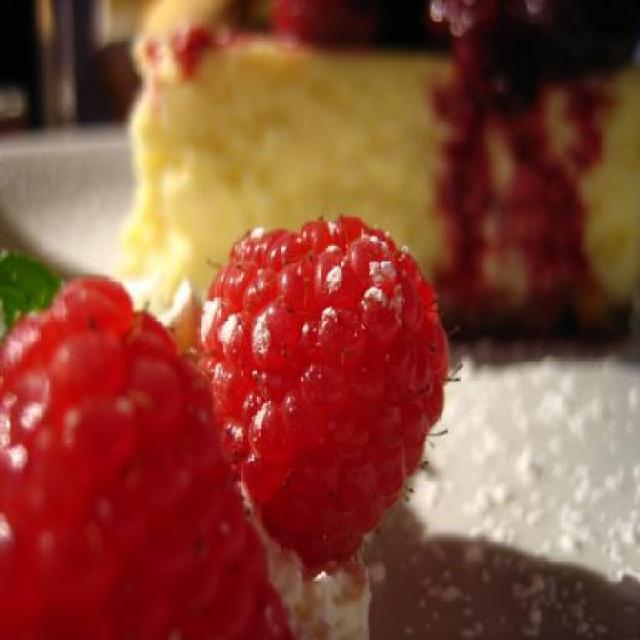Strawberry: (0, 248, 292, 639), (195, 212, 432, 574)
